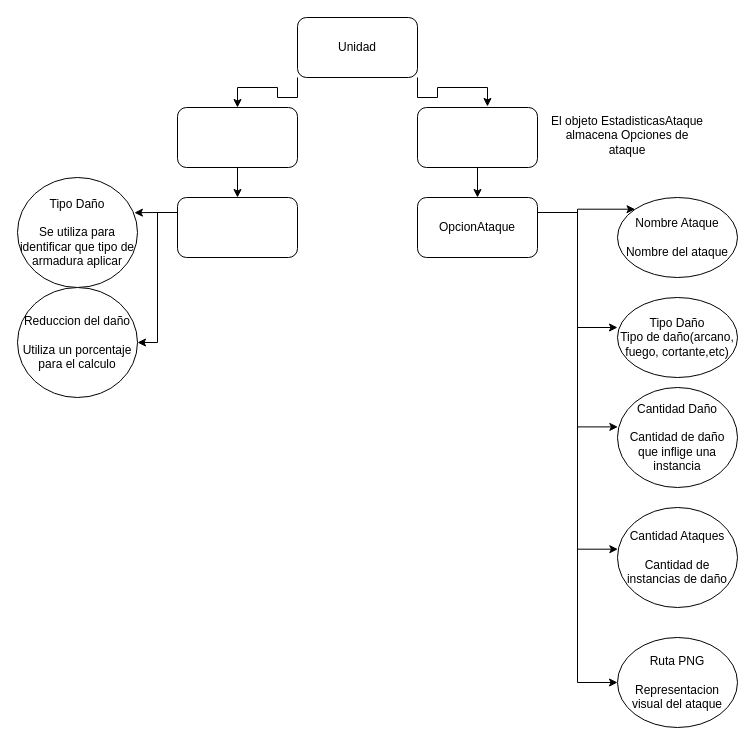
Image size: 755x745. Some labels were removed from this diagram. The shapes that lost their labels are listed below. From the top down, each one's centre as x and y in pixels, then its label:
point (237, 137): EstadisticasDefensa
point (477, 137): EstadisticasAtaque
point (237, 227): OpcionDefensa
